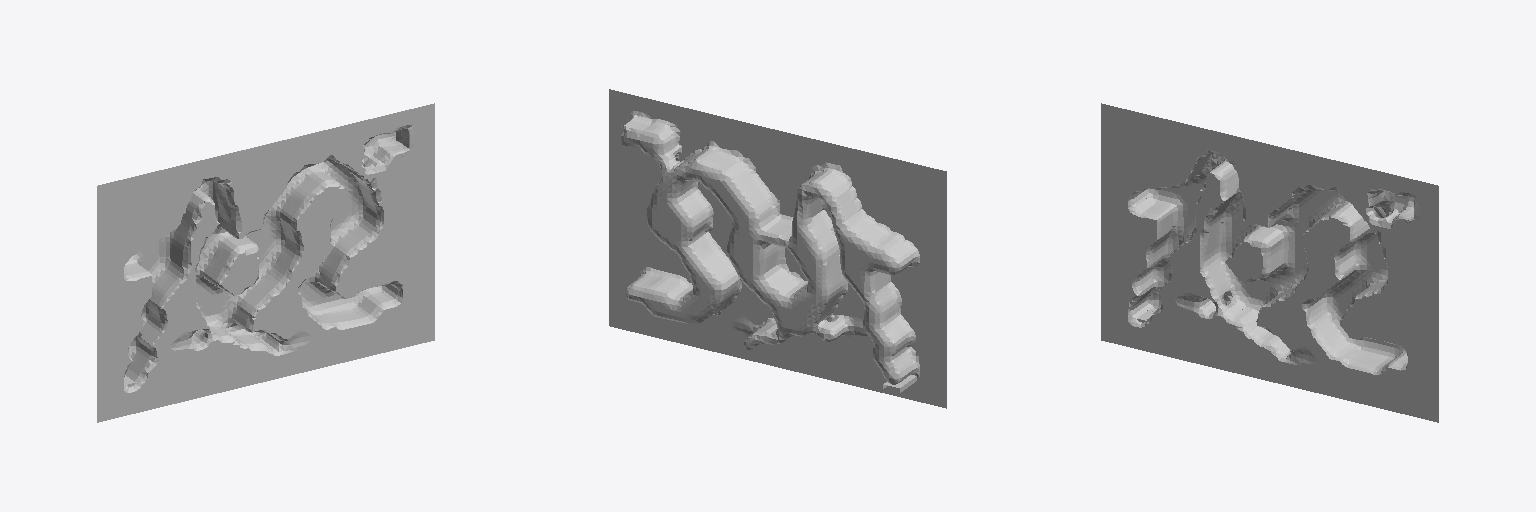
Rendered from E3M0.Display.obj.
The picture shows the model from 3 angles: view 1: azimuth 30°, elevation 25°; view 2: azimuth 150°, elevation 25°; view 3: azimuth 330°, elevation 25°; orthographic projection.
Visible parts, largest first — view 1: World.Display; view 2: World.Display; view 3: World.Display.
Boxes of the visible parts, x1=… form: World.Display: x1=97, y1=103, x2=434, y2=422; World.Display: x1=609, y1=89, x2=946, y2=408; World.Display: x1=1101, y1=103, x2=1438, y2=422.
Bounding box in the file's own units: 70 × 47 × 7.1.